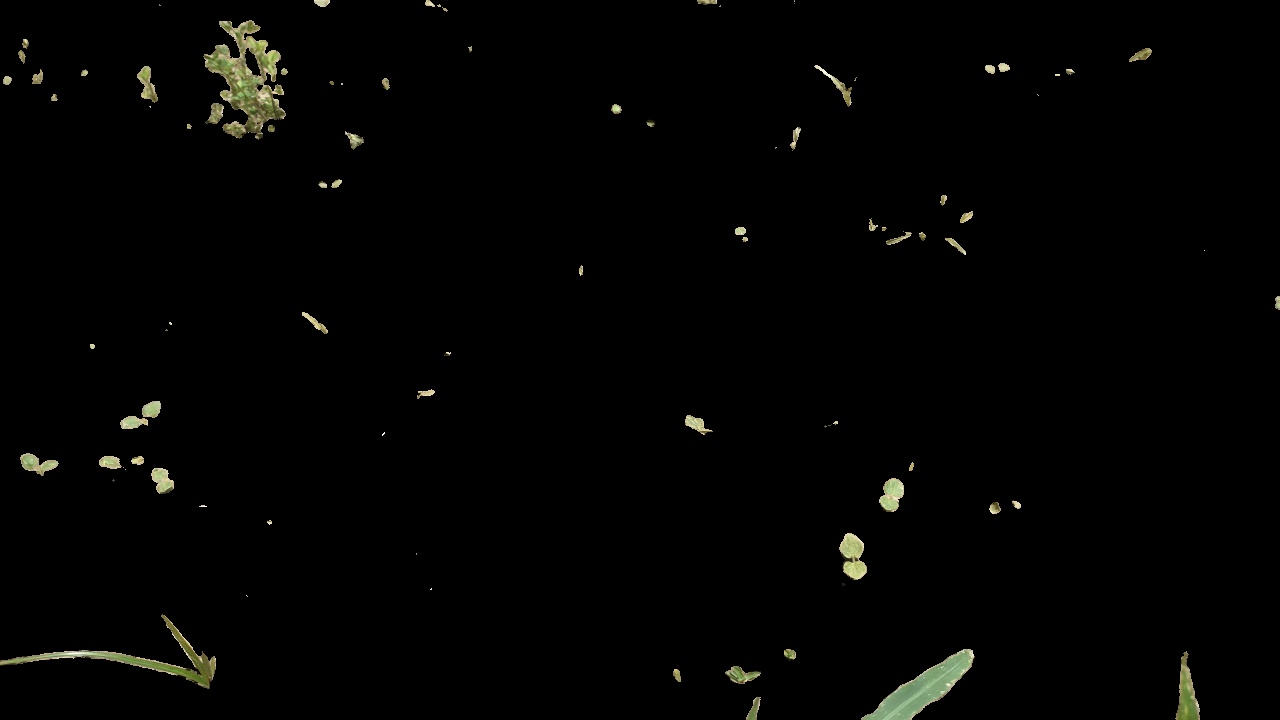crop: (709, 612, 1022, 720)
weed: (1, 604, 222, 697), (188, 2, 302, 152), (863, 177, 973, 261), (812, 54, 862, 108), (833, 527, 878, 585), (15, 444, 65, 484), (115, 392, 158, 431), (131, 67, 171, 104), (881, 472, 913, 515), (148, 462, 178, 502), (723, 662, 768, 685), (979, 58, 1018, 84), (99, 454, 152, 471), (686, 408, 718, 435), (316, 168, 348, 192)
